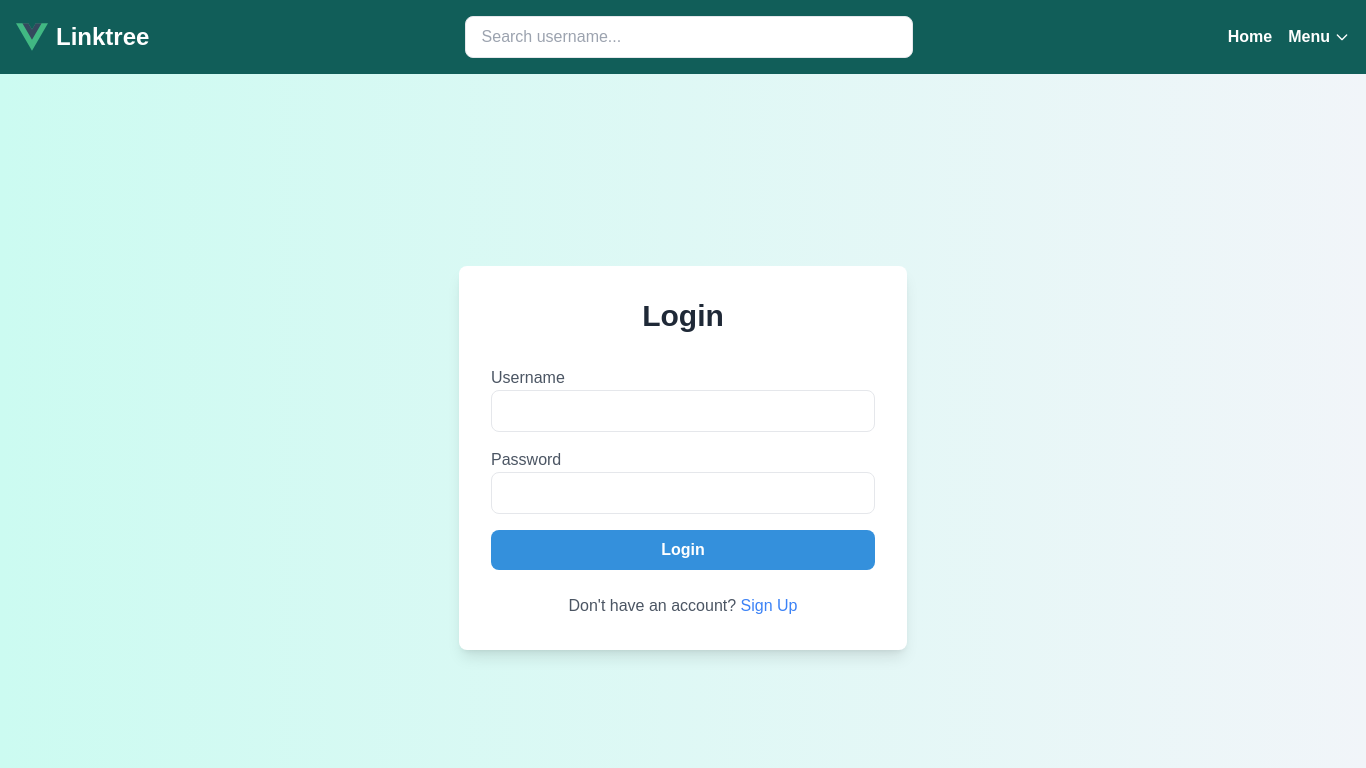
Test: MessageBox Component › should display error message correctly
Type "invaliduser" into the field with id "username" at [683, 411], box [491, 390, 875, 432]
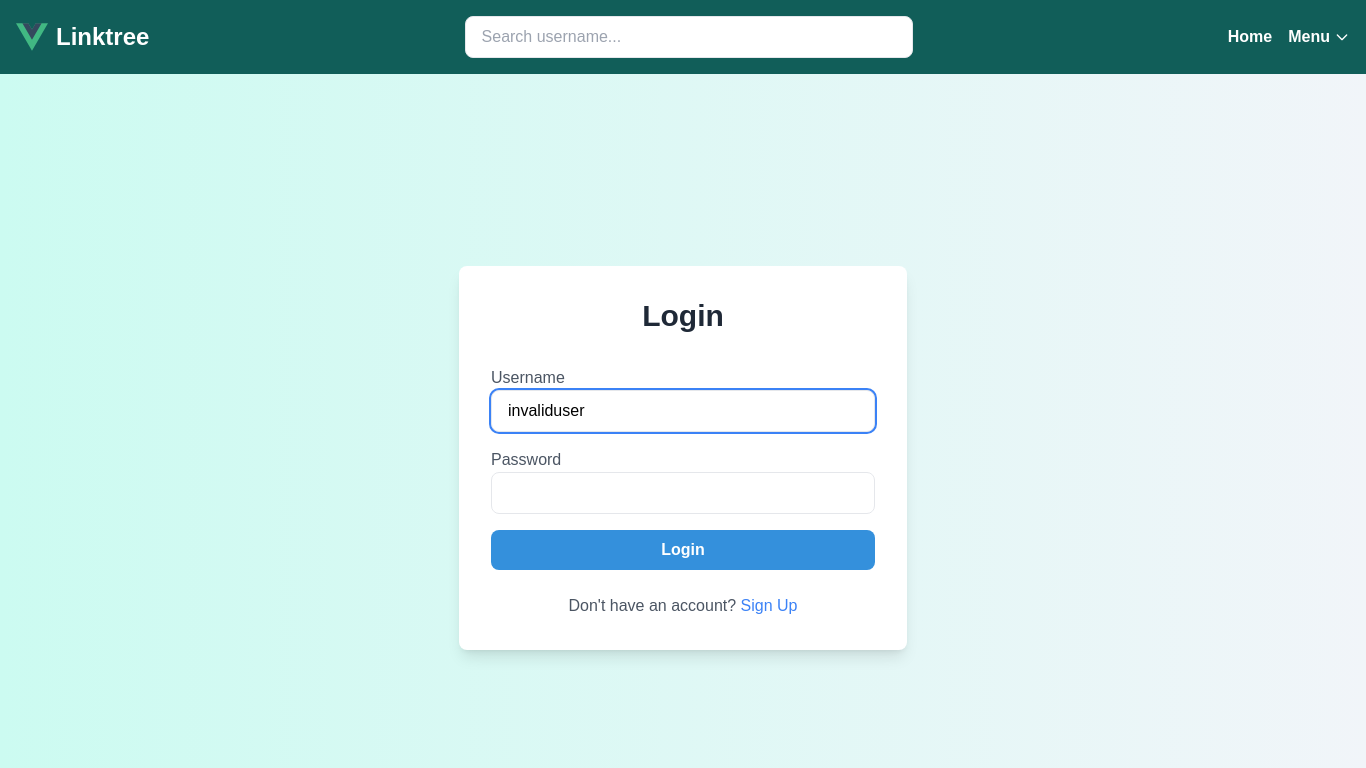
Type "invalidpass" into the password field labelled "Password" at [683, 493], box [491, 472, 875, 514]
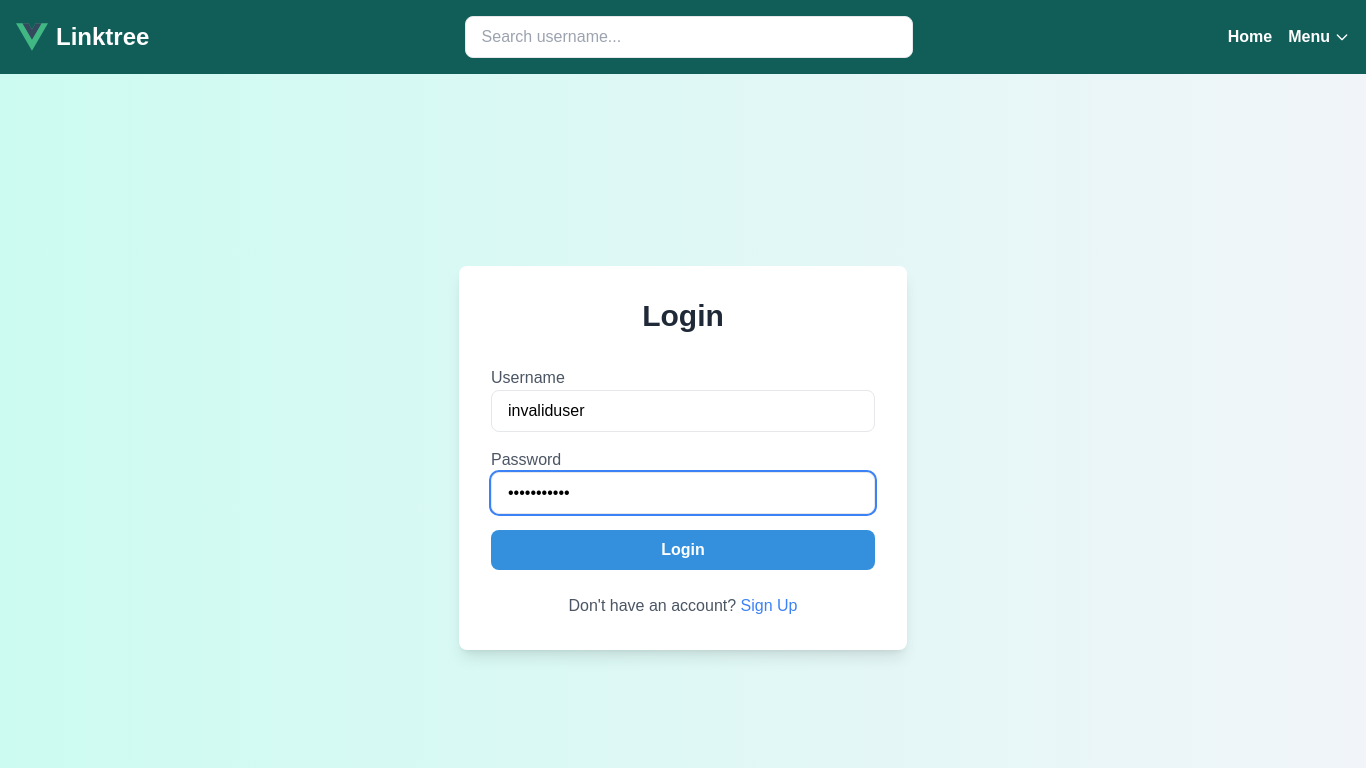
Click the submit button at [683, 550], box [491, 530, 875, 570]
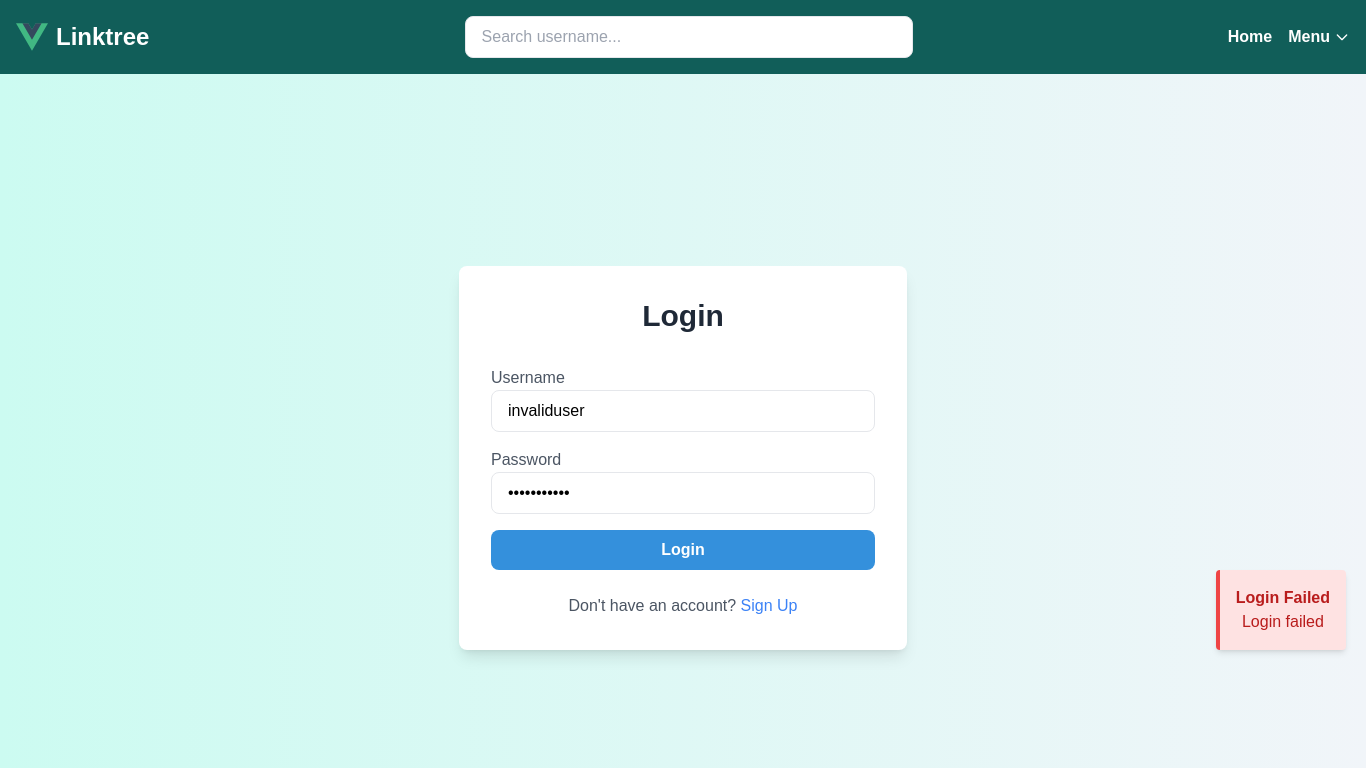
expect the text "Login Failed" is shown: met, box [1236, 589, 1330, 606]
